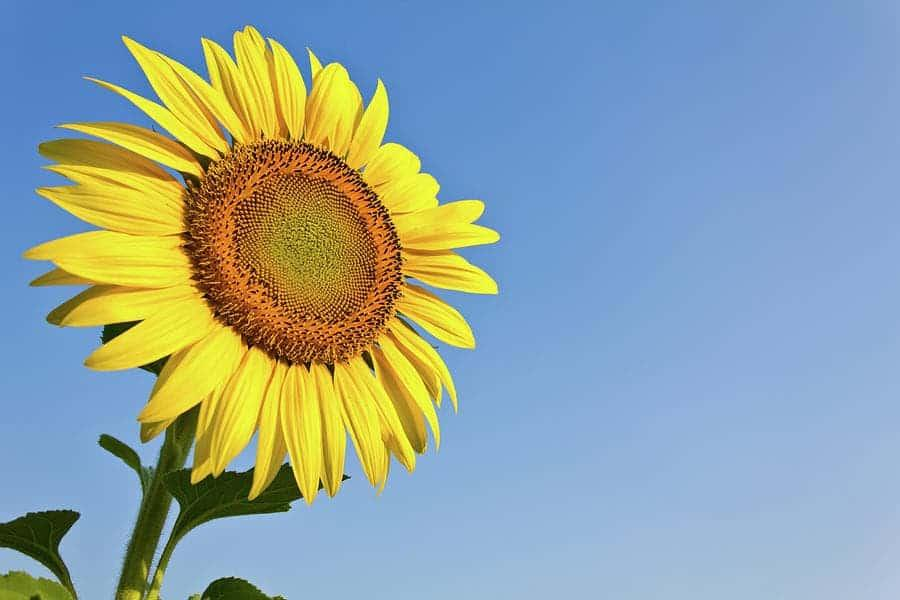sunflower: (22, 23, 501, 506)
